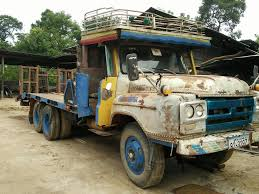truck: (16, 21, 253, 189)
